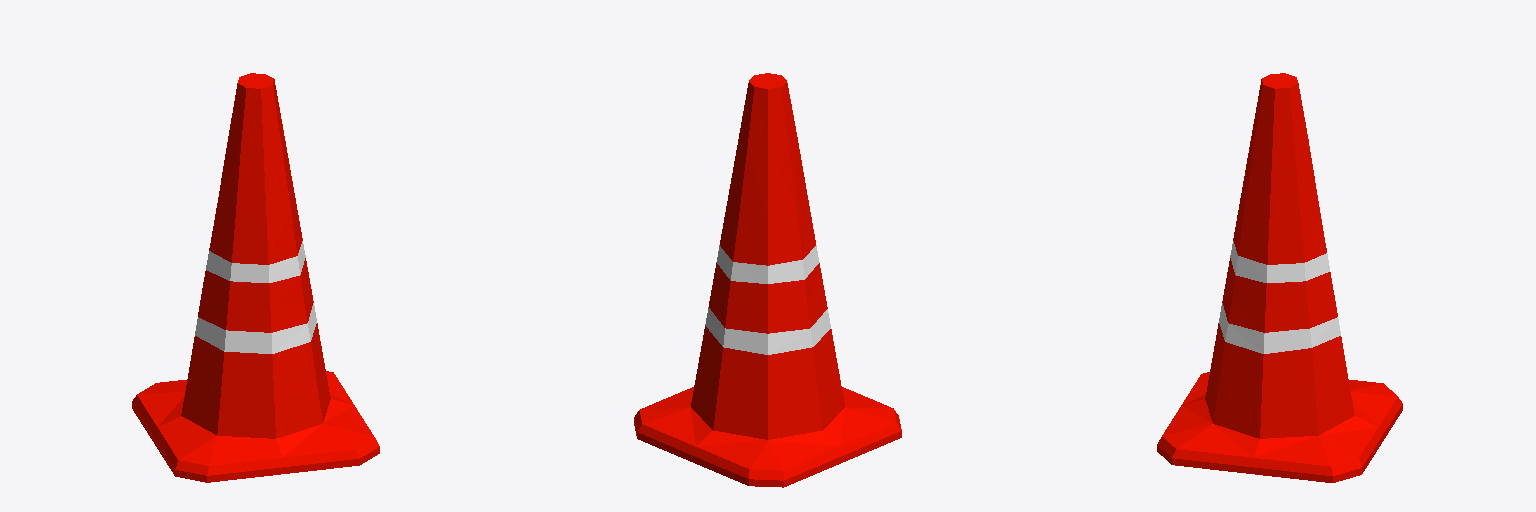
File: block.1.obj
3 views of the same model, side by side, from view 1: azimuth 30°, elevation 25°; view 2: azimuth 150°, elevation 25°; view 3: azimuth 270°, elevation 25° (orthographic).
Visible parts, largest first — view 1: SM_Prop_Cone_7_SM_Prop_Cone_01; view 2: SM_Prop_Cone_7_SM_Prop_Cone_01; view 3: SM_Prop_Cone_7_SM_Prop_Cone_01.
Boxes of the visible parts, x1=… form: SM_Prop_Cone_7_SM_Prop_Cone_01: x1=132, y1=73, x2=379, y2=482; SM_Prop_Cone_7_SM_Prop_Cone_01: x1=634, y1=73, x2=901, y2=487; SM_Prop_Cone_7_SM_Prop_Cone_01: x1=1157, y1=73, x2=1402, y2=482.
Size of the model in its own units: 0.614 by 0.9559 by 0.6084.